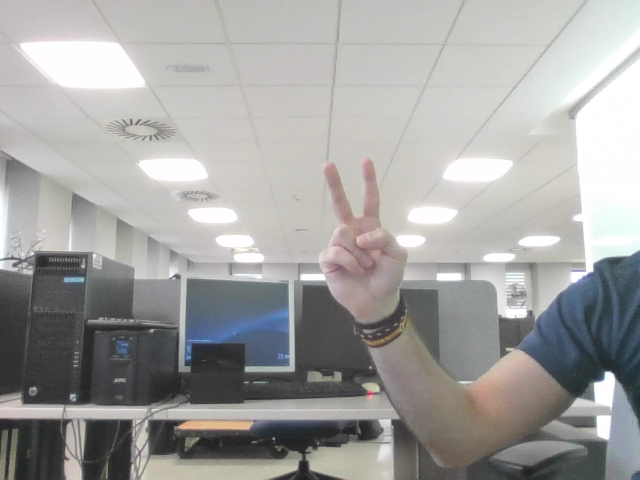2Dedos: (333, 169, 393, 274)
